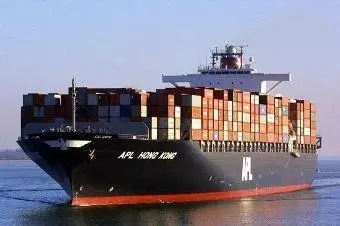Cargoship: (18, 42, 325, 205)
